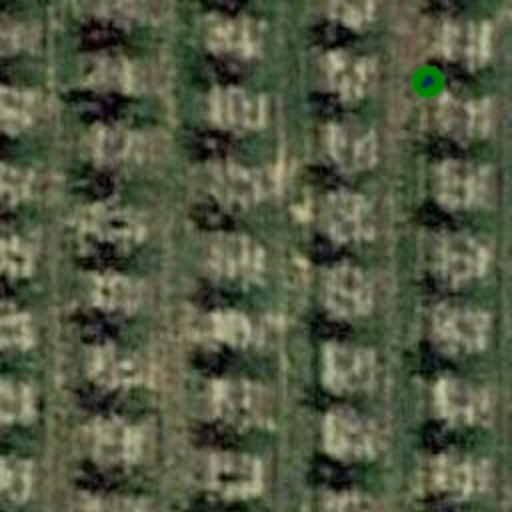octagon: (404, 58, 452, 106)
